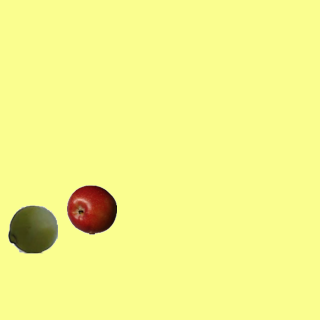Apple Braeburn: (66, 184, 116, 234)
Grape White 4: (7, 203, 57, 253)
